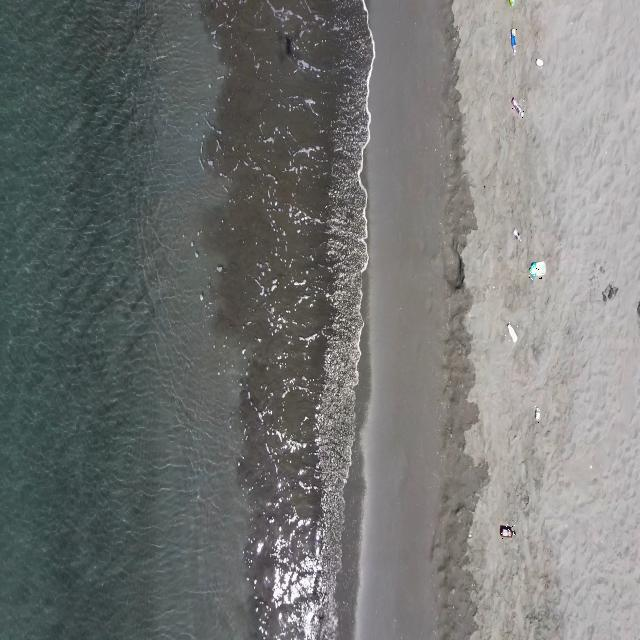Garbage: (528, 260, 544, 279), (603, 283, 617, 300), (512, 96, 523, 116), (500, 524, 515, 536), (507, 323, 516, 342), (533, 406, 540, 422), (511, 27, 515, 54), (512, 227, 520, 240), (535, 57, 543, 65), (216, 263, 221, 272), (507, 0, 515, 5), (199, 292, 203, 300)
